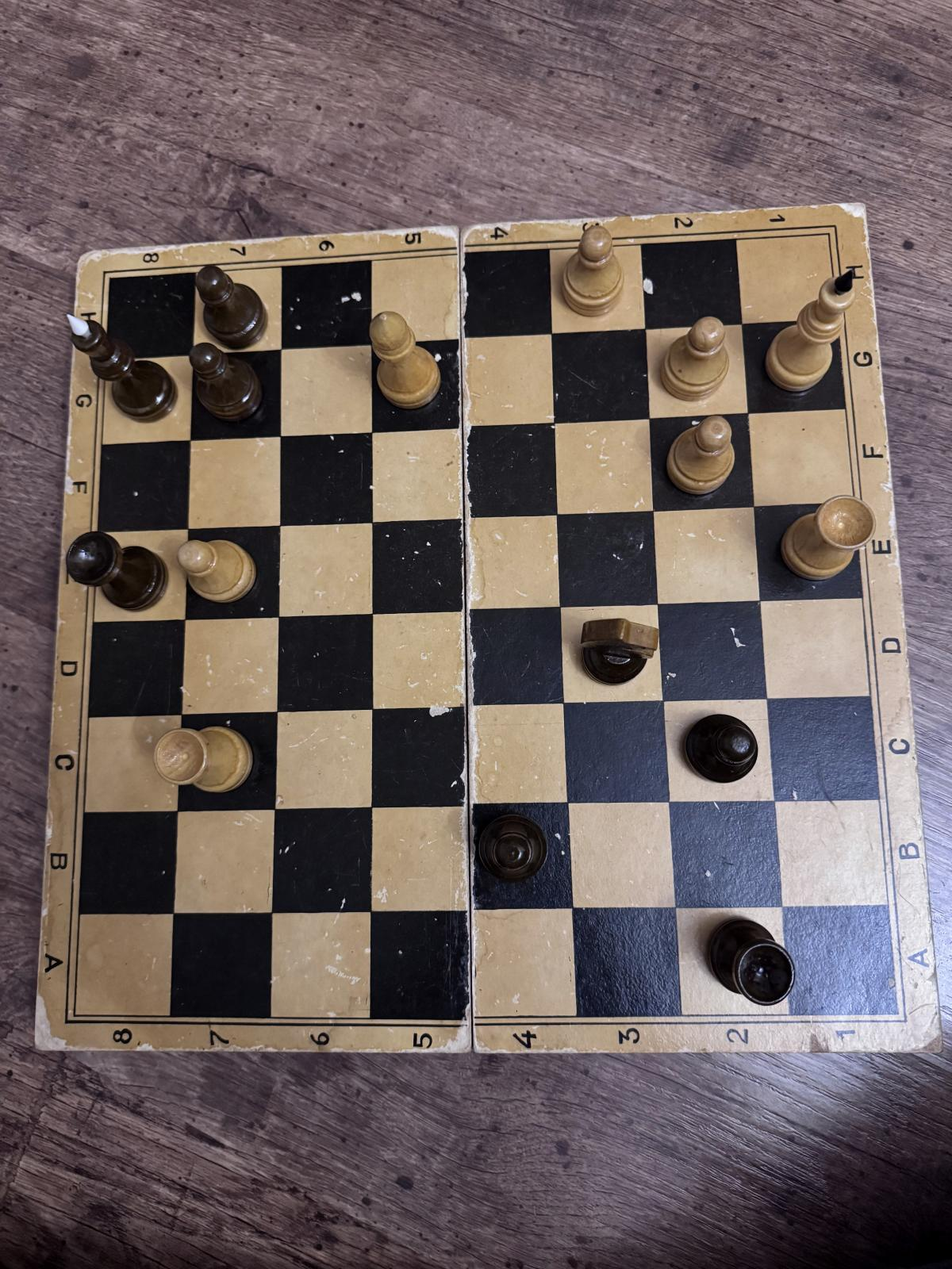Chess-Board: (74, 234, 897, 1015)
